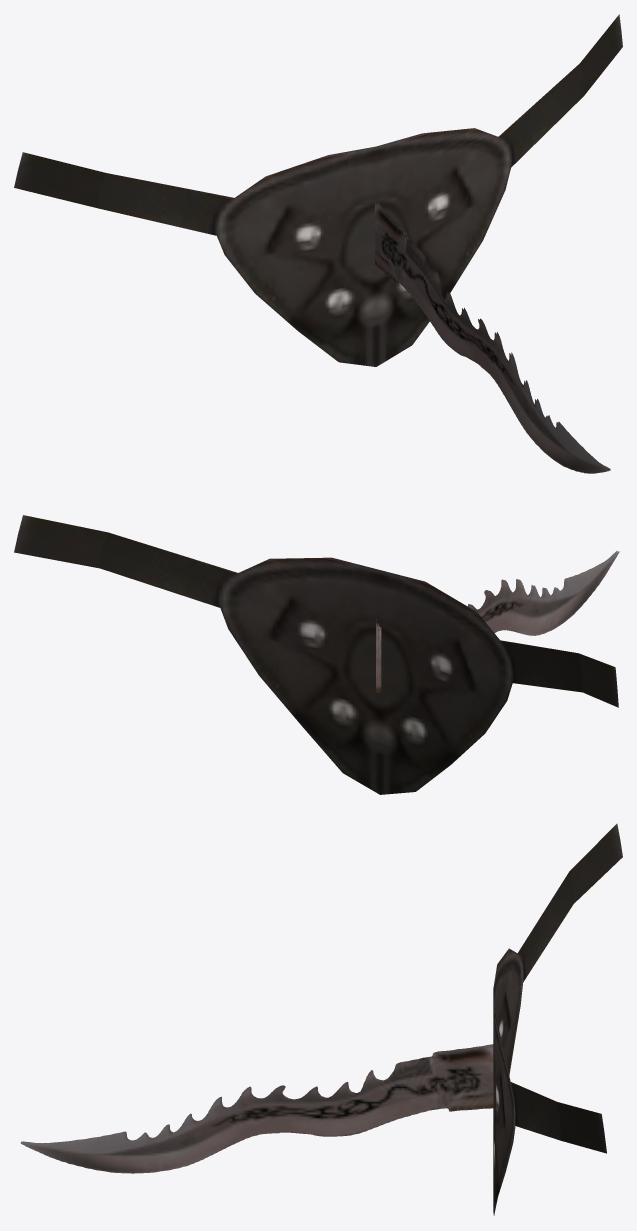
The model's file is ichis_blade.FBX.
3 views of the same model, one above another, from view 1: azimuth 30°, elevation 25°; view 2: azimuth 150°, elevation 25°; view 3: azimuth 270°, elevation 25° (orthographic).
Visible parts, largest first — view 1: ichi_blade; view 2: ichi_blade; view 3: ichi_blade.
Boxes of the visible parts, bbox=[...] form: ichi_blade: bbox=[14, 14, 622, 473]; ichi_blade: bbox=[14, 515, 619, 794]; ichi_blade: bbox=[20, 823, 622, 1215].
Bounding box in the file's own units: 23.49 × 9.02 × 20.38.
